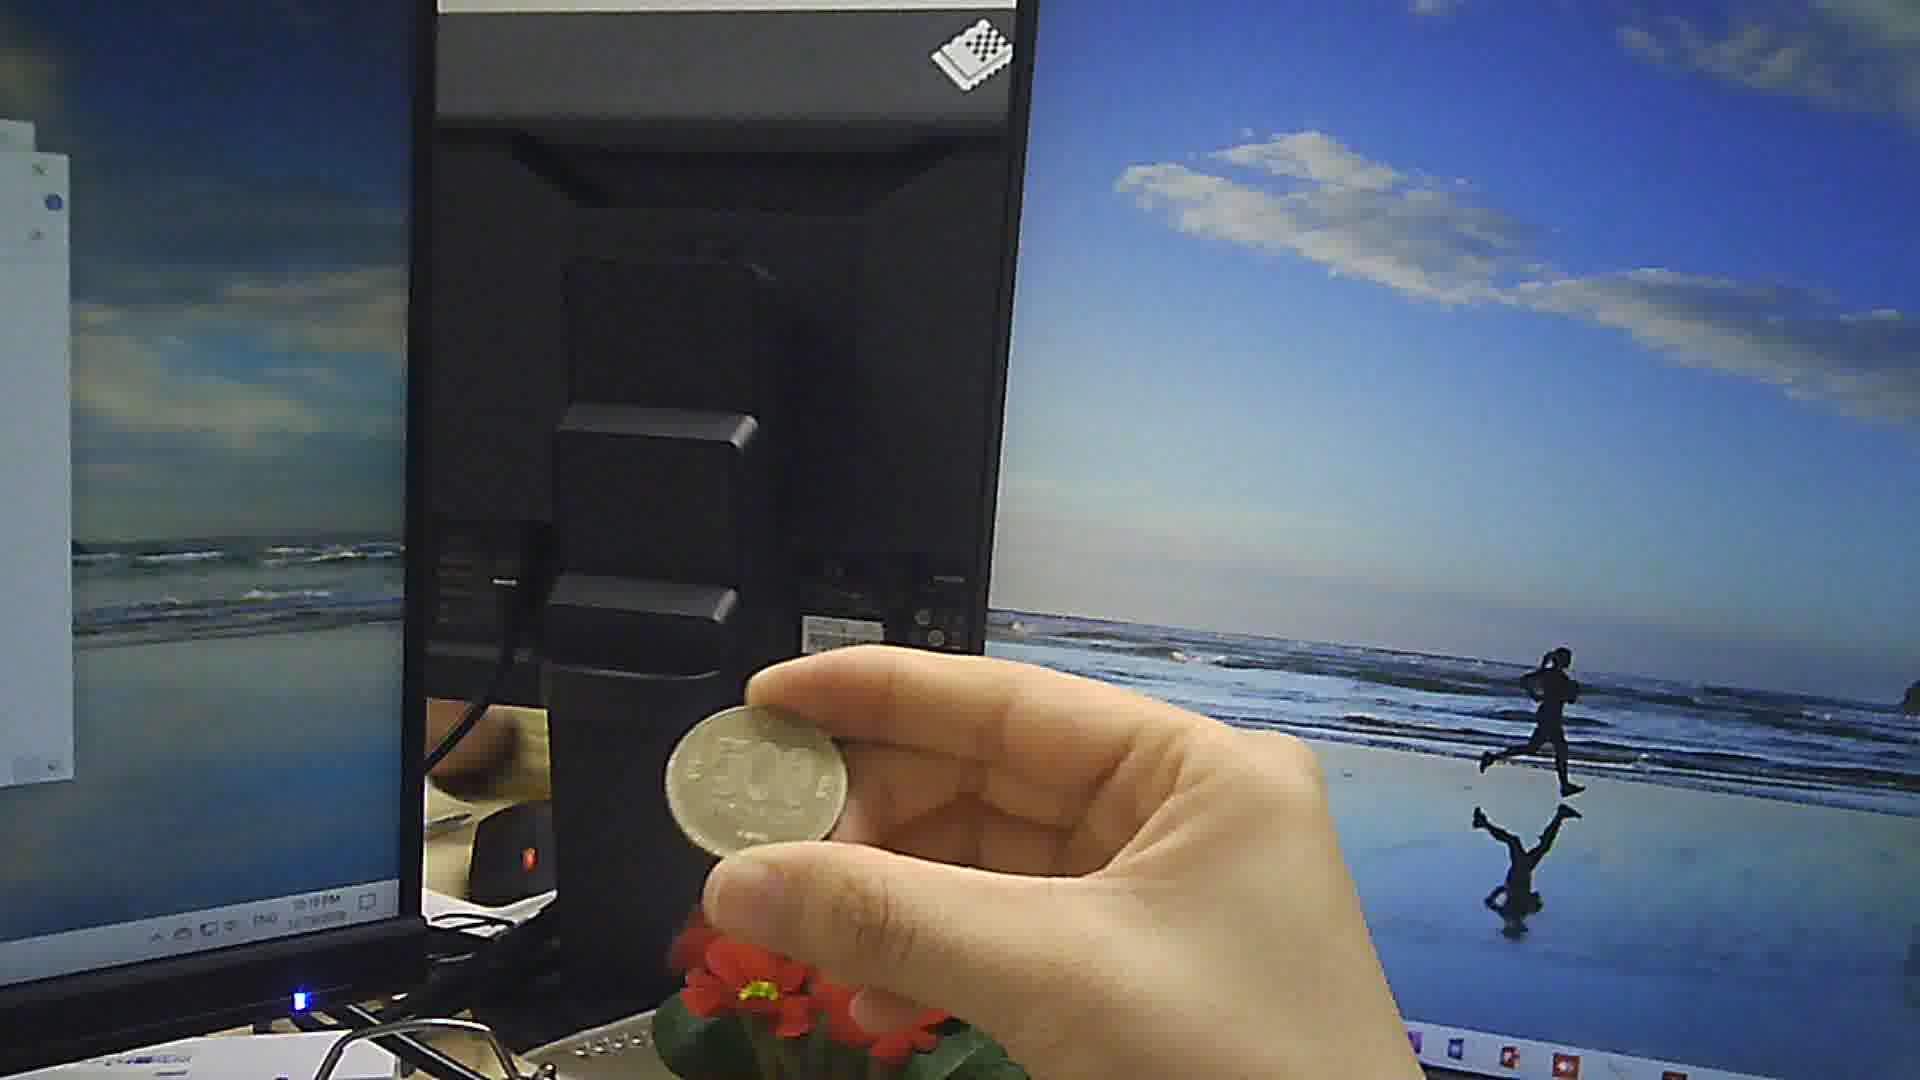500 Yen: (661, 711, 847, 858)
